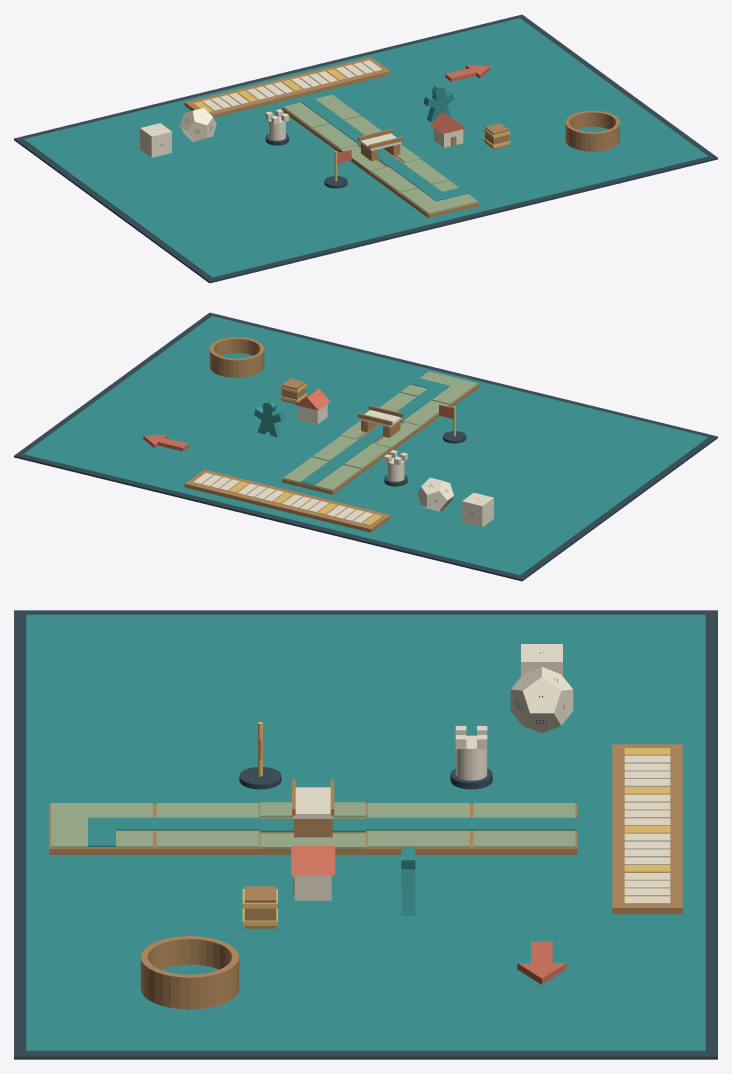
Rendered from tabletop-game-components-route-planning--77b7d3f2-starter-scene__20891.glb.
3 views of the same model, one above another, from view 1: azimuth 30°, elevation 25°; view 2: azimuth 150°, elevation 25°; view 3: azimuth 270°, elevation 25° (orthographic). The views are drawn at different scales.
Parts seen in each view (by area): view 1: 000-game-mat/1, 000-game-mat/0, 001-score-track/0, 014-token-bowl/1, 006-canal-elbow/1, 005-canal-straight/1, 002-canal-straight/1, 012-d6-cube/0, 003-canal-straight/1, 013-d12-dodecahedron/0, 009-worker-meeple/0, 015-turn-arrow/0; view 2: 000-game-mat/1, 000-game-mat/0, 001-score-track/0, 014-token-bowl/1, 002-canal-straight/1, 006-canal-elbow/1, 003-canal-straight/1, 012-d6-cube/0, 013-d12-dodecahedron/0, 005-canal-straight/1, 009-worker-meeple/0, 015-turn-arrow/0 (+2 smaller); view 3: 000-game-mat/1, 000-game-mat/0, 014-token-bowl/1, 001-score-track/0, 002-canal-straight/1, 003-canal-straight/1, 005-canal-straight/1, 006-canal-elbow/1, 013-d12-dodecahedron/0, 002-canal-straight/2, 005-canal-straight/2, 003-canal-straight/2 (+19 smaller).
Part boxes in pixels (x1,y1,x2,y2): 000-game-mat/1: (23,18,708,277); 000-game-mat/0: (14,14,717,283); 001-score-track/0: (184,57,390,117); 014-token-bowl/1: (565,110,619,151); 006-canal-elbow/1: (400,180,477,213); 005-canal-straight/1: (371,159,448,192); 002-canal-straight/1: (283,94,360,128); 012-d6-cube/0: (140,123,171,157); 003-canal-straight/1: (312,116,381,149); 013-d12-dodecahedron/0: (180,108,216,141); 009-worker-meeple/0: (423,84,454,121); 015-turn-arrow/0: (445,65,490,81); 000-game-mat/1: (23,316,708,575); 000-game-mat/0: (14,312,717,581); 001-score-track/0: (184,469,390,532); 014-token-bowl/1: (209,337,264,377); 002-canal-straight/1: (283,457,360,490); 006-canal-elbow/1: (400,371,477,404); 003-canal-straight/1: (312,435,389,468); 012-d6-cube/0: (462,493,493,527); 013-d12-dodecahedron/0: (417,477,453,511); 005-canal-straight/1: (379,392,448,425); 009-worker-meeple/0: (254,399,284,437); 015-turn-arrow/0: (143,435,188,451); 000-game-mat/1: (26,614,705,1051); 000-game-mat/0: (14,610,717,1059); 014-token-bowl/1: (140,936,239,1009); 001-score-track/0: (612,744,682,914); 002-canal-straight/1: (473,803,575,847); 003-canal-straight/1: (367,803,469,847); 005-canal-straight/1: (156,803,258,847); 006-canal-elbow/1: (51,803,152,847); 013-d12-dodecahedron/0: (510,667,573,733); 002-canal-straight/2: (471,817,577,830); 005-canal-straight/2: (154,817,260,830); 003-canal-straight/2: (366,817,471,830).
Size of the model in its own units: 0.6 by 0.0385 by 0.4.
